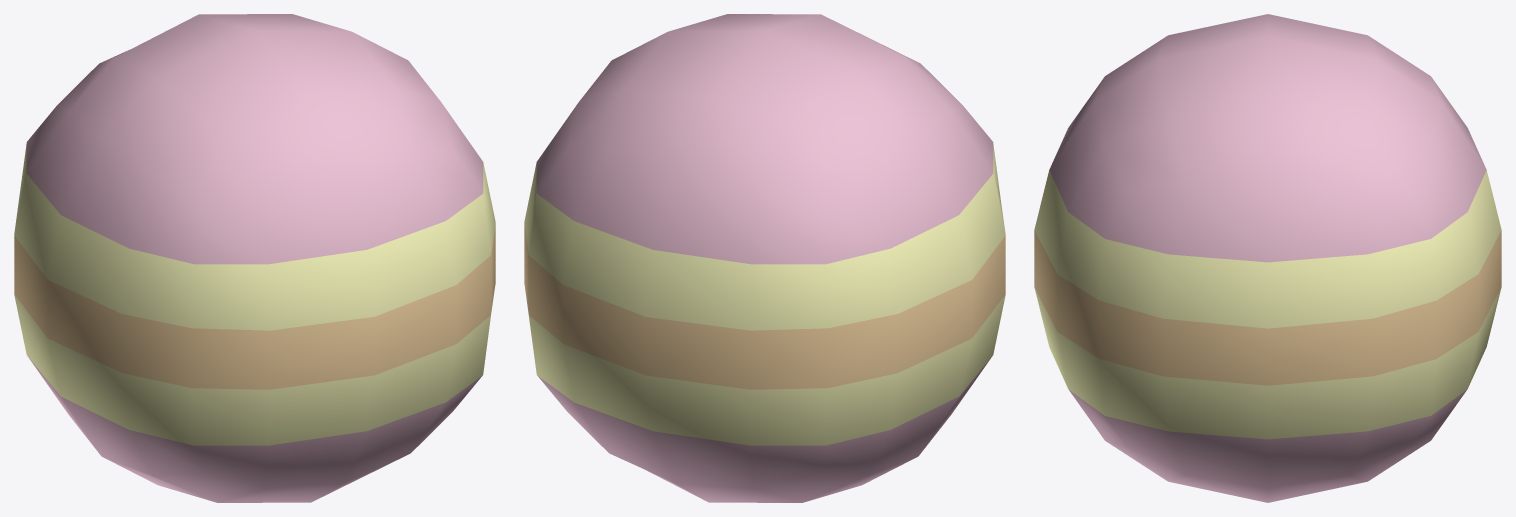
File: SM_Planet_03.fbx
3 views of the same model, side by side, from view 1: azimuth 30°, elevation 25°; view 2: azimuth 150°, elevation 25°; view 3: azimuth 270°, elevation 25° (orthographic). The views are drawn at different scales.
Parts seen in each view (by area): view 1: SM_Planet_03; view 2: SM_Planet_03; view 3: SM_Planet_03.
Part boxes in pixels (x1,y1,x2,y2): SM_Planet_03: (14, 14, 495, 502); SM_Planet_03: (524, 14, 1005, 502); SM_Planet_03: (1034, 14, 1501, 502).
Bounding box in the file's own units: 97.87 × 102 × 97.87.
